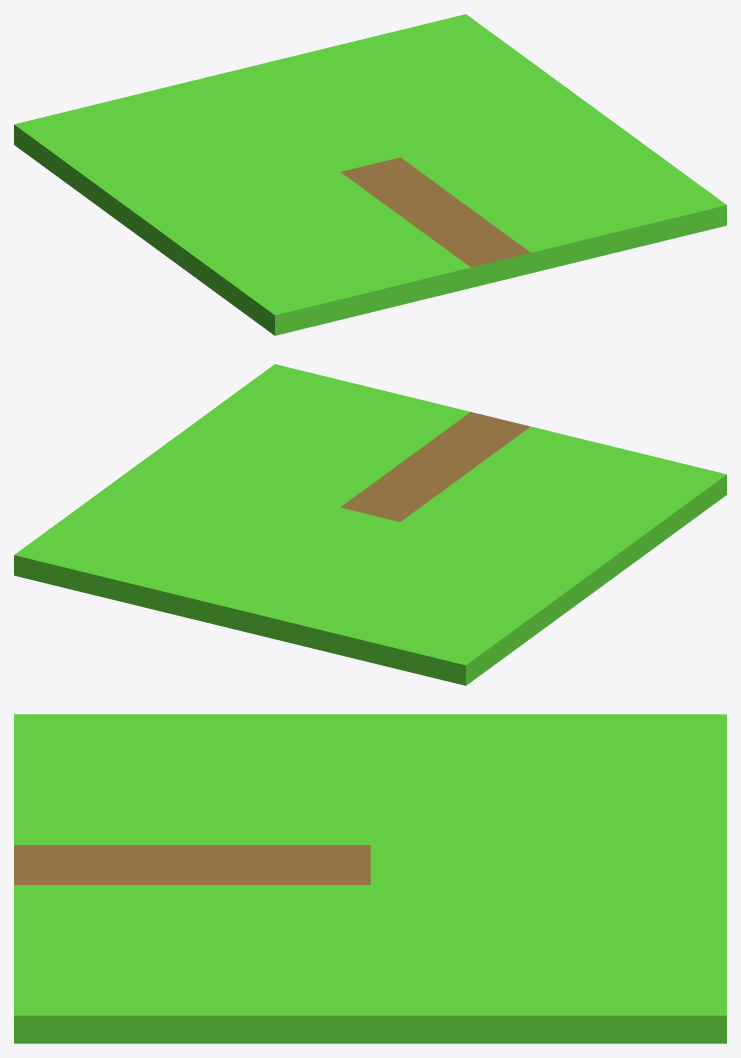
File: Ground.glb
The picture shows the model from 3 angles, top to bottom: view 1: azimuth 30°, elevation 25°; view 2: azimuth 150°, elevation 25°; view 3: azimuth 270°, elevation 25°; orthographic projection. The views are drawn at different scales.
Parts seen in each view (by area): view 1: Cube; view 2: Cube; view 3: Cube.
Part boxes in pixels (box(x1,y1,x2,y2)): Cube: box(14, 14, 726, 335); Cube: box(14, 364, 726, 685); Cube: box(14, 714, 726, 1043).
Bounding box in the file's own units: 6 × 0.2601 × 6.
